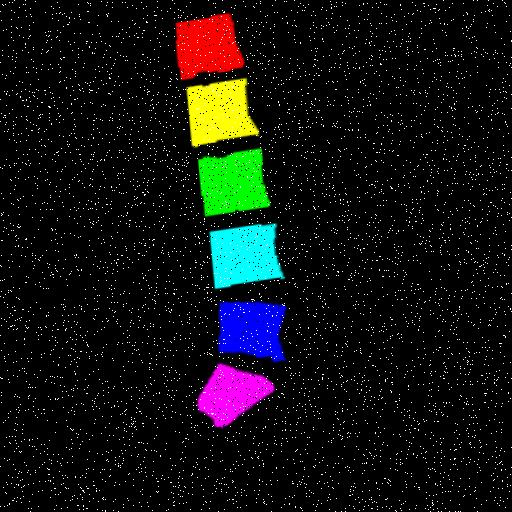L1: (176, 19, 244, 82)
L2: (186, 82, 258, 149)
L3: (197, 153, 268, 220)
L4: (209, 229, 282, 291)
L5: (216, 307, 284, 367)
S1: (196, 367, 272, 431)
